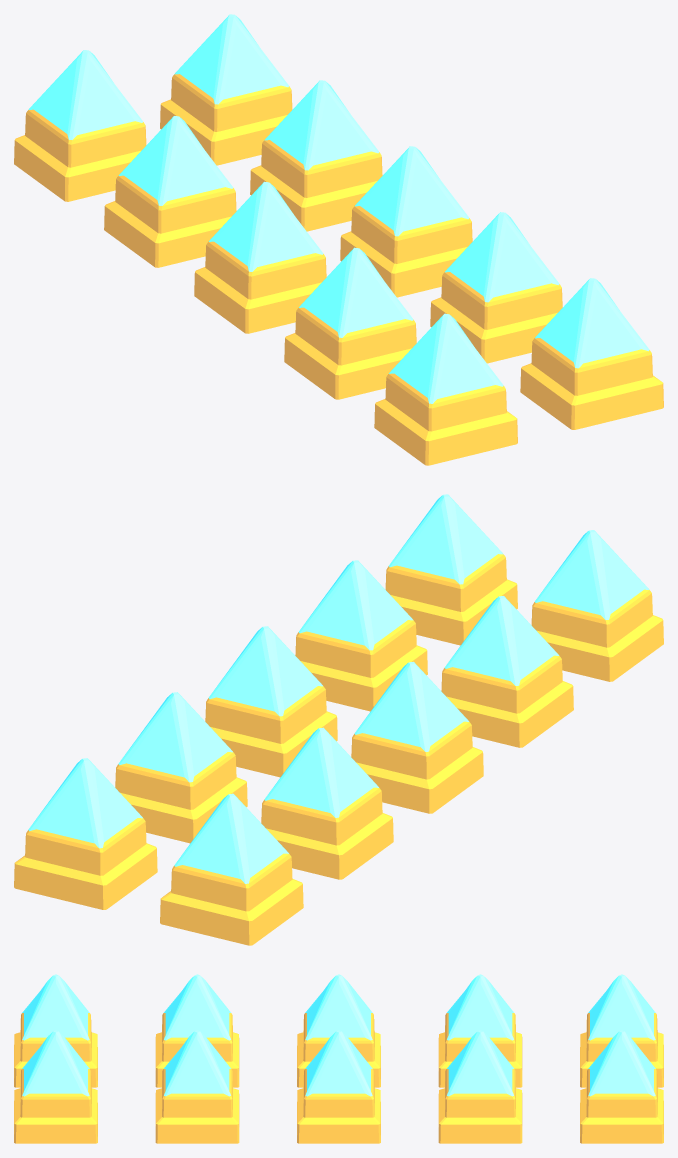
The model's file is Religious_Spikes.fbx.
The picture shows the model from 3 angles, top to bottom: view 1: azimuth 30°, elevation 25°; view 2: azimuth 150°, elevation 25°; view 3: azimuth 270°, elevation 25°; orthographic projection. The views are drawn at different scales.
Visible parts, largest first — view 1: Religious_Spikes; view 2: Religious_Spikes; view 3: Religious_Spikes.
Part boxes in pixels (x1=…): Religious_Spikes: x1=14, y1=14, x2=663, y2=465; Religious_Spikes: x1=14, y1=494, x2=663, y2=945; Religious_Spikes: x1=14, y1=974, x2=663, y2=1143.
Size of the model in its own units: 279 by 135 by 839.
